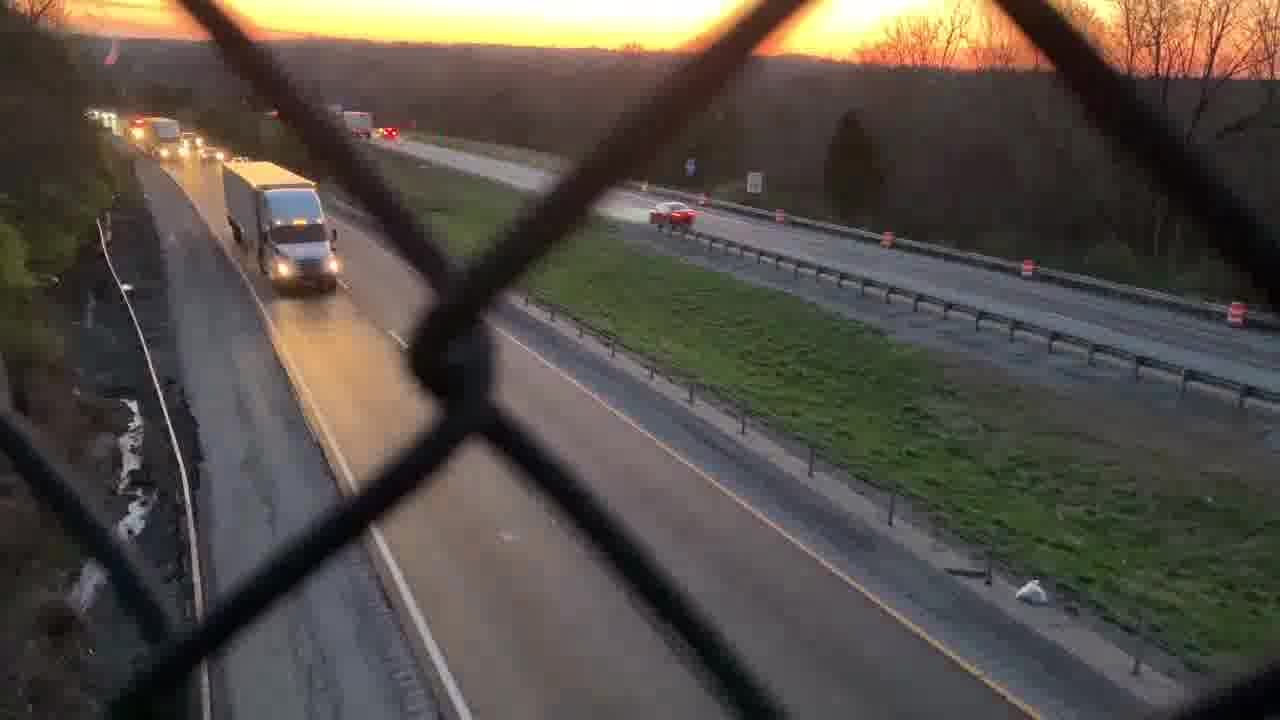heavyTruck: (219, 160, 347, 297)
smallCar: (646, 198, 697, 232)
